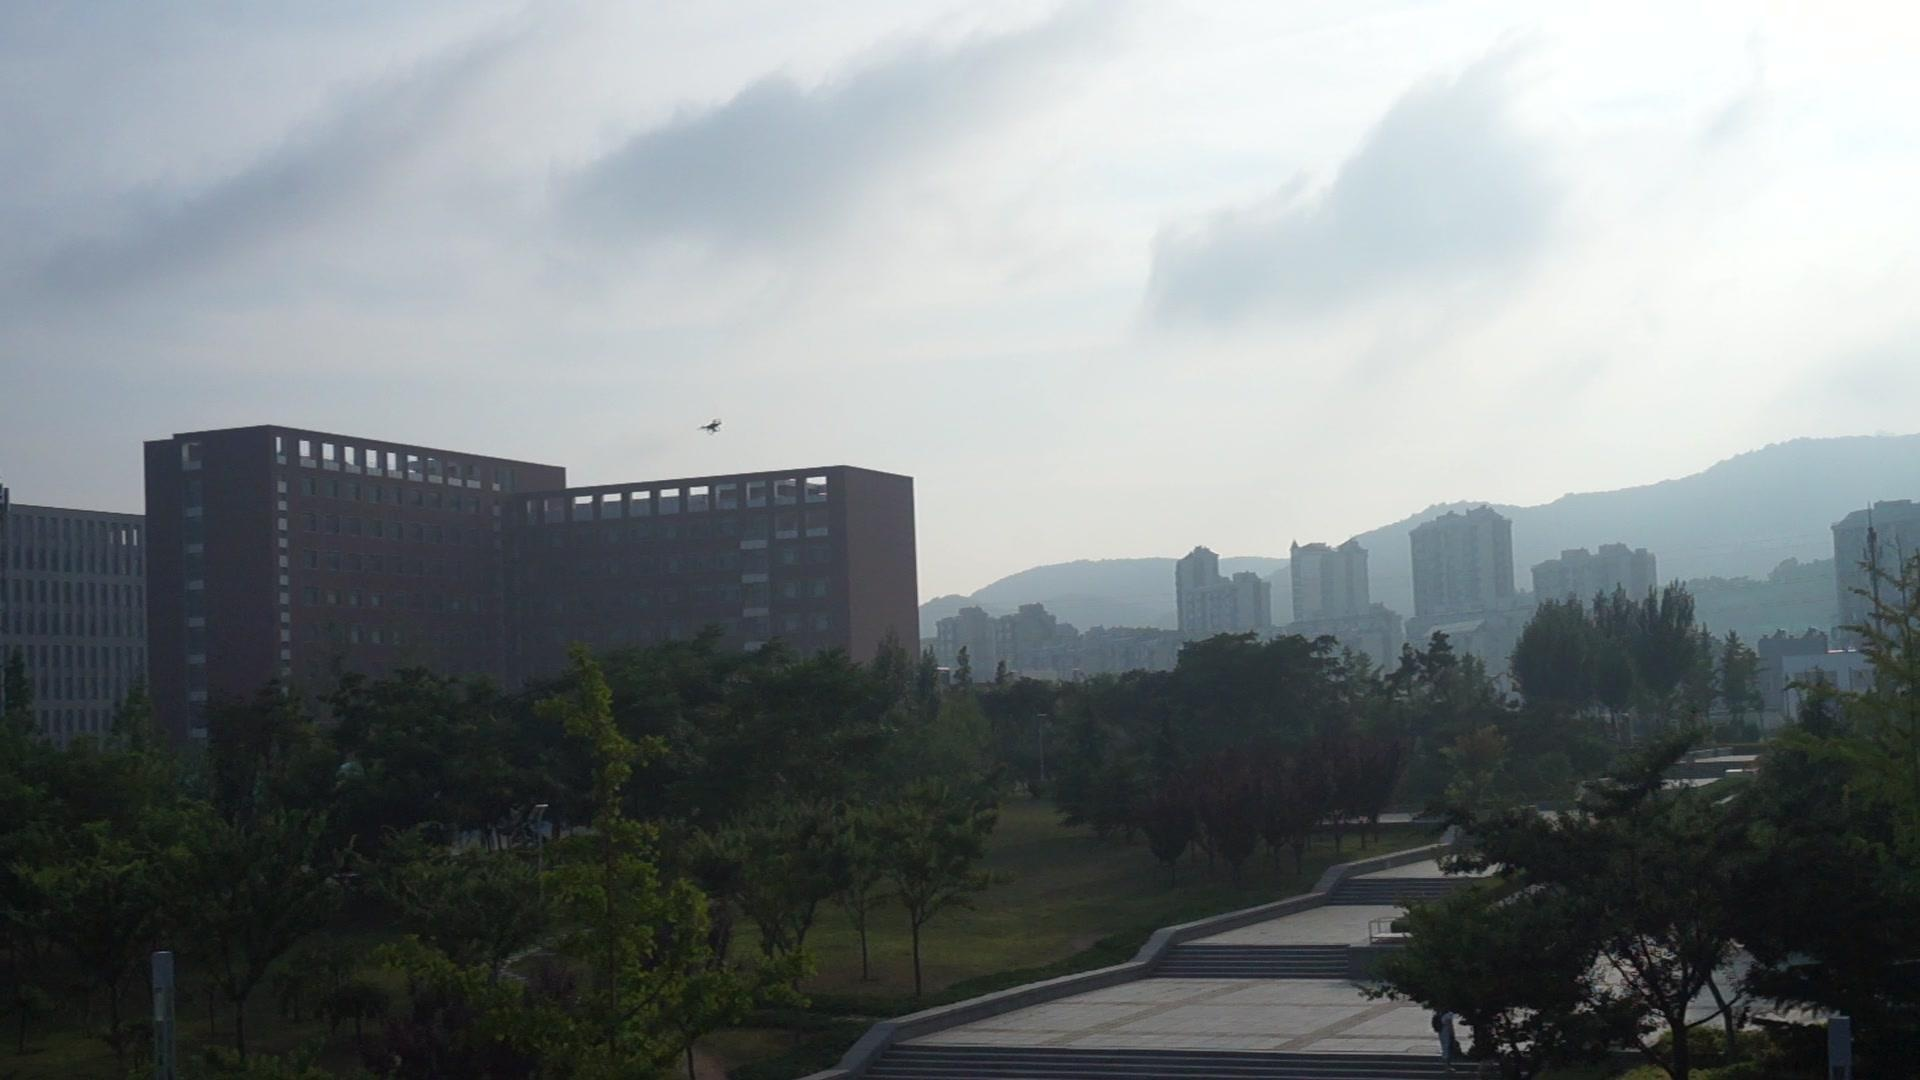UAV: (698, 418, 723, 436)
